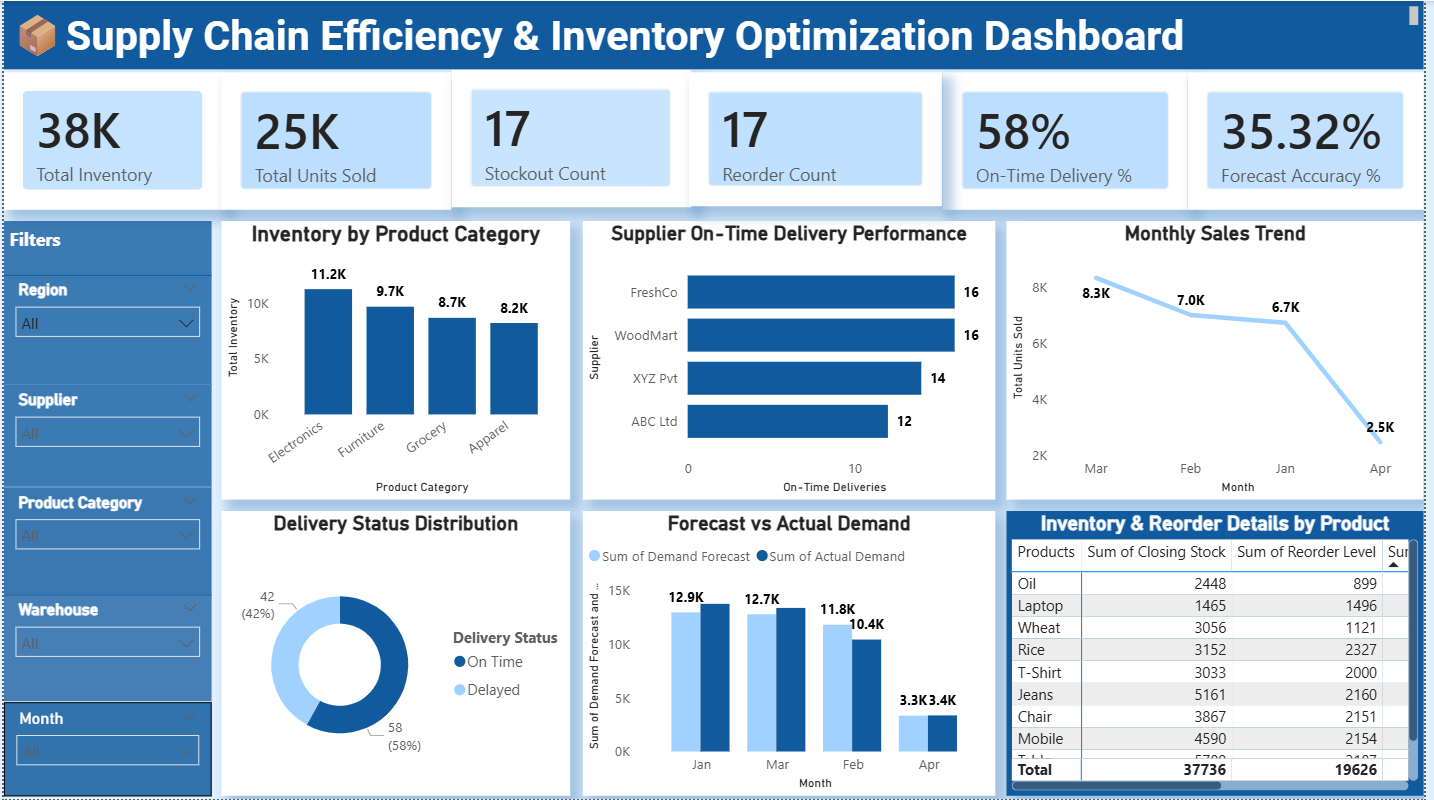

What the dashboard file says about the page in this screenshot:
{"tool":"powerbi","page":{"name":"Page 1","canvas":[1280,720],"ordinal":0},"visuals":[{"type":"cardVisual","fields":{"Data":["SupplyChainData.Total Inventory"]},"box":[0,64.6,196.4,123.6],"z":0},{"type":"cardVisual","fields":{"Data":["SupplyChainData.Total Units Sold"]},"box":[196.4,64.6,207.4,123.6],"z":1},{"type":"cardVisual","fields":{"Data":["SupplyChainData.Stockout Count"]},"box":[403.9,61.8,215.7,123.6],"z":2},{"type":"cardVisual","fields":{"Data":["SupplyChainData.On-Time Delivery %"]},"box":[846.5,64.6,221.2,123.6],"z":4},{"type":"cardVisual","fields":{"Data":["SupplyChainData.Forecast Accuracy %"]},"box":[1067.4,64.6,212.9,123.6],"z":5},{"type":"textbox","box":[0,0,1280.3,61.8],"z":6},{"type":"clusteredColumnChart","title":"Inventory by Product Category","fields":{"Category":["SupplyChainData.Product Category"],"Y":["SupplyChainData.Total Inventory"]},"box":[196.4,197.8,314.6,251.4],"z":7},{"type":"clusteredBarChart","title":"Supplier On-Time Delivery Performance","fields":{"Category":["SupplyChainData.Supplier"],"Y":["SupplyChainData.On-Time Deliveries"]},"box":[522,197.8,372.3,251.4],"z":8},{"type":"lineChart","title":"Monthly Sales Trend","fields":{"Category":["SupplyChainData.Month"],"Y":["SupplyChainData.Total Units Sold"]},"box":[903.9,197.8,376.4,251.4],"z":9},{"type":"donutChart","title":"Delivery Status Distribution","fields":{"Category":["SupplyChainData.Delivery Status"],"Y":["CountNonNull(SupplyChainData.Delivery Status)"]},"box":[196.4,460.2,314.6,256.9],"z":10},{"type":"clusteredColumnChart","title":"Forecast vs Actual Demand","fields":{"Category":["SupplyChainData.Month"],"Y":["Sum(SupplyChainData.Demand Forecast)","Sum(SupplyChainData.Actual Demand)"]},"box":[522,460.2,372.3,256.9],"z":11},{"type":"pivotTable","title":"Inventory & Reorder Details by Product","fields":{"Values":["Sum(SupplyChainData.Closing Stock)","Sum(SupplyChainData.Reorder Level)","Sum(SupplyChainData.Lead Time (Days))","Min(SupplyChainData.Delivery Status)"],"Rows":["SupplyChainData.Products"]},"box":[903.9,460.2,376.4,256.9],"z":12},{"type":"slicer","fields":{"Values":["SupplyChainData.Region"]},"box":[0,247.3,186.8,98.9],"z":13},{"type":"slicer","fields":{"Values":["SupplyChainData.Supplier"]},"box":[0,346.2,186.8,92],"z":14},{"type":"slicer","fields":{"Values":["SupplyChainData.Product Category"]},"box":[0,438.2,186.8,97.5],"z":15},{"type":"slicer","fields":{"Values":["SupplyChainData.Warehouse"]},"box":[0,535.7,186.8,96.2],"z":16},{"type":"slicer","fields":{"Values":["SupplyChainData.Month"]},"box":[0,631.9,186.8,85.2],"z":17},{"type":"cardVisual","fields":{"Data":["SupplyChainData.Reorder Count"]},"box":[618.2,64.6,228,120.9],"z":18},{"type":"textbox","box":[0,197.8,186.8,49.5],"z":19}]}

Visuals, with their boxes in screenshot pixels (x1, y1, x2, y2), scaled from the page's 1280x720 canvas onto the 1434x800 screenshot:
cardVisual - SupplyChainData.Total Inventory: 0 72 220 209
cardVisual - SupplyChainData.Total Units Sold: 220 72 452 209
cardVisual - SupplyChainData.Stockout Count: 452 69 694 206
cardVisual - SupplyChainData.On-Time Delivery %: 948 72 1196 209
cardVisual - SupplyChainData.Forecast Accuracy %: 1196 72 1433 209
textbox: 0 0 1433 69
"Inventory by Product Category" clusteredColumnChart: 220 220 572 499
"Supplier On-Time Delivery Performance" clusteredBarChart: 585 220 1002 499
"Monthly Sales Trend" lineChart: 1013 220 1433 499
"Delivery Status Distribution" donutChart: 220 511 572 797
"Forecast vs Actual Demand" clusteredColumnChart: 585 511 1002 797
"Inventory & Reorder Details by Product" pivotTable: 1013 511 1433 797
slicer - SupplyChainData.Region: 0 275 209 385
slicer - SupplyChainData.Supplier: 0 385 209 487
slicer - SupplyChainData.Product Category: 0 487 209 595
slicer - SupplyChainData.Warehouse: 0 595 209 702
slicer - SupplyChainData.Month: 0 702 209 797
cardVisual - SupplyChainData.Reorder Count: 693 72 948 206
textbox: 0 220 209 275
